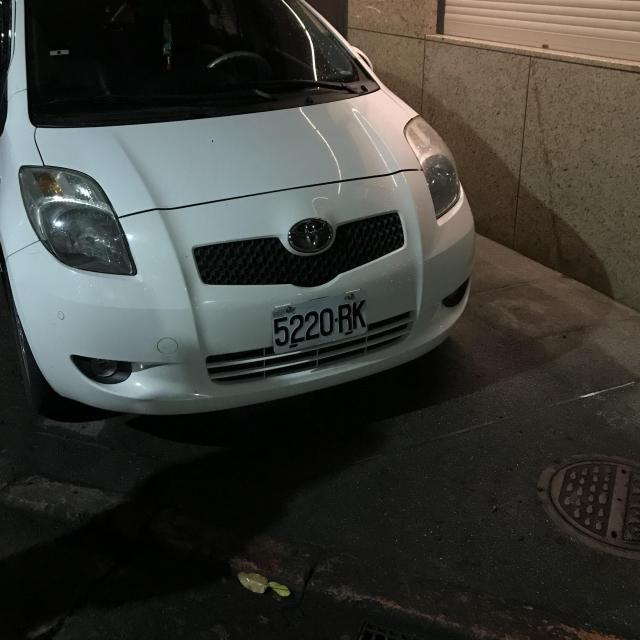W: (266, 284, 373, 354)
